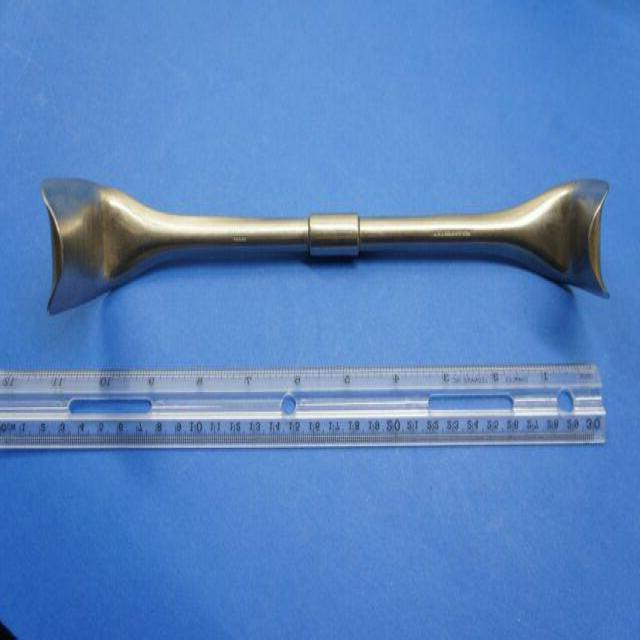Richardson: (35, 172, 614, 322)
